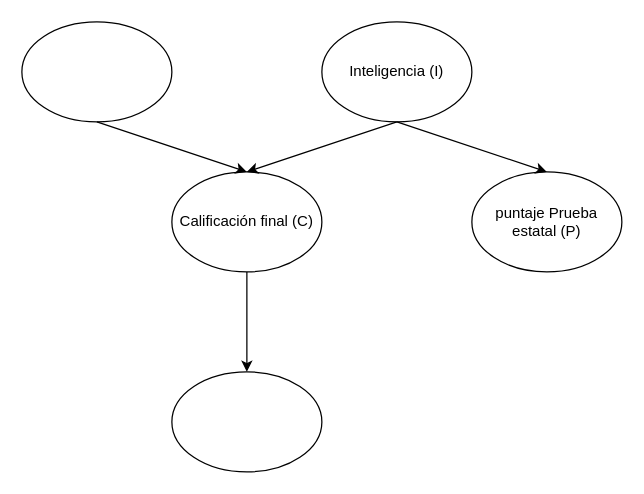
Image size: 644x494. Some labels were removed from this diagram. The centre of each missing label's shape, as x and y in pixels:
carta de Recomendación (R): point 246,421
Dificultad (D): point 96,71
